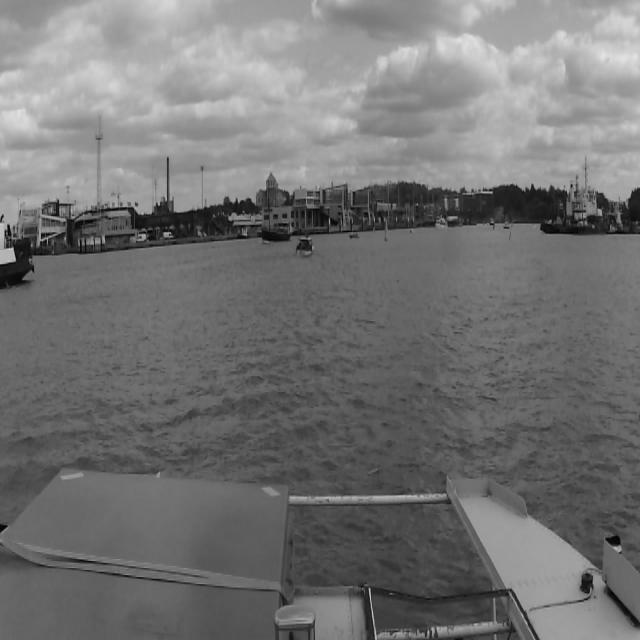buoy: (370, 227, 375, 253), (509, 220, 513, 241)
ship: (0, 213, 35, 289), (261, 222, 291, 245), (295, 237, 314, 257), (435, 214, 447, 230), (348, 232, 359, 240), (503, 220, 509, 230), (409, 229, 413, 233)
